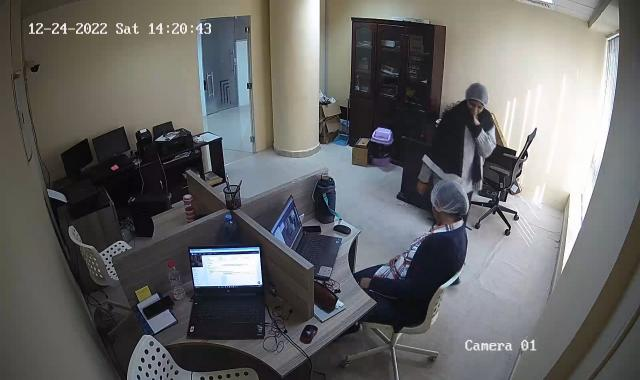hairnet: (428, 178, 470, 223), (465, 80, 490, 117)
